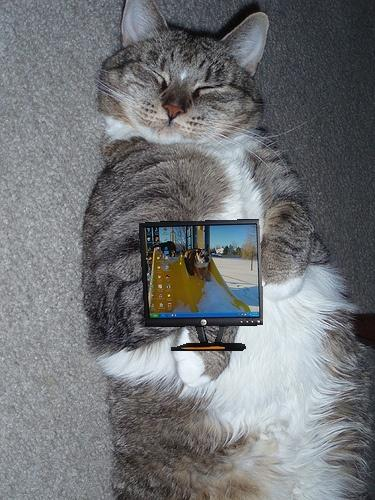tampered: (140, 220, 263, 351)
